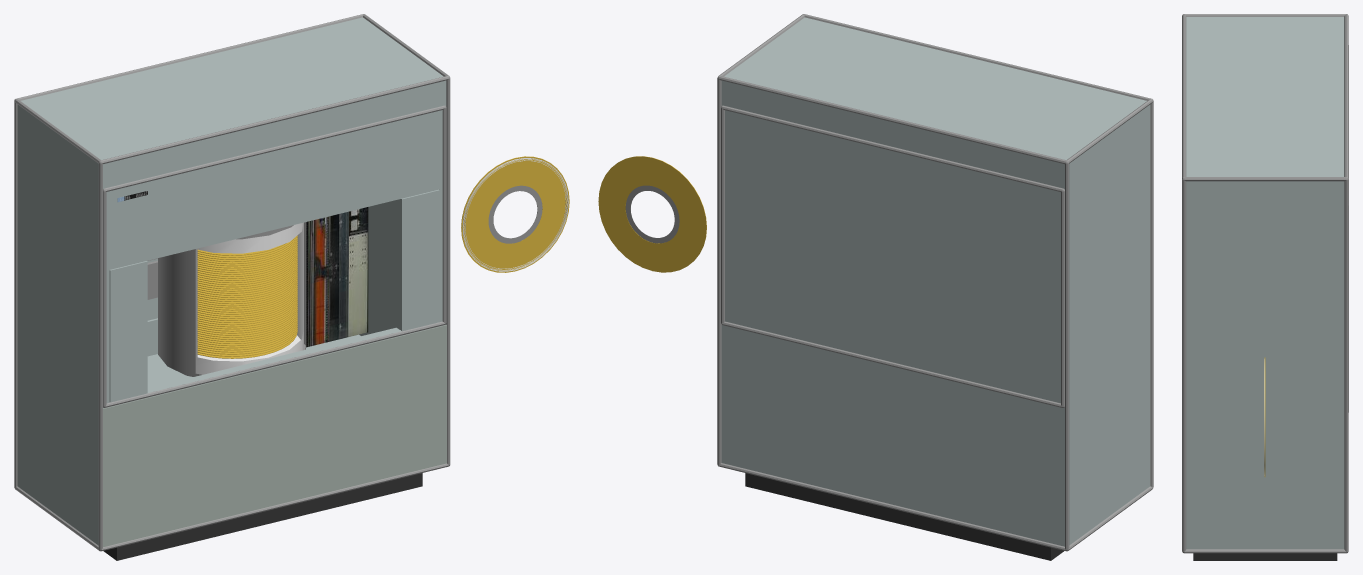
The model's file is ibm-ramac-305.glb.
3 views of the same model, side by side, from view 1: azimuth 30°, elevation 25°; view 2: azimuth 150°, elevation 25°; view 3: azimuth 270°, elevation 25° (orthographic). The views are drawn at different scales.
Visible parts, largest first — view 1: Cube_11; view 2: Cube_11; view 3: Cube_11.
Boxes of the visible parts, left/top/right/bottom form: Cube_11: left=14, top=14, right=569, bottom=560; Cube_11: left=598, top=14, right=1153, bottom=560; Cube_11: left=1182, top=14, right=1348, bottom=560.
Bounding box in the file's own units: 1.75 × 1.33 × 0.5129.
Materials: 9 (2 with a texture image).
